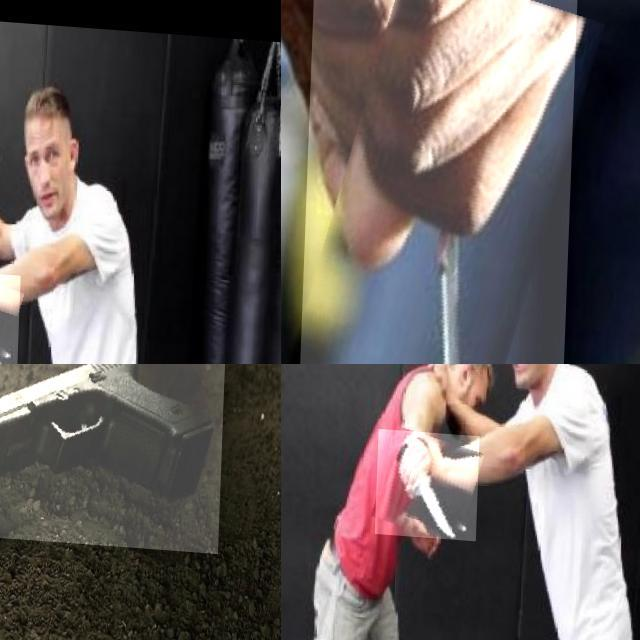-: (301, 0, 579, 364), (377, 426, 481, 536), (0, 265, 50, 364)
gun-knife-thesis - v11 Yolov5 augmented: (0, 364, 227, 547)
